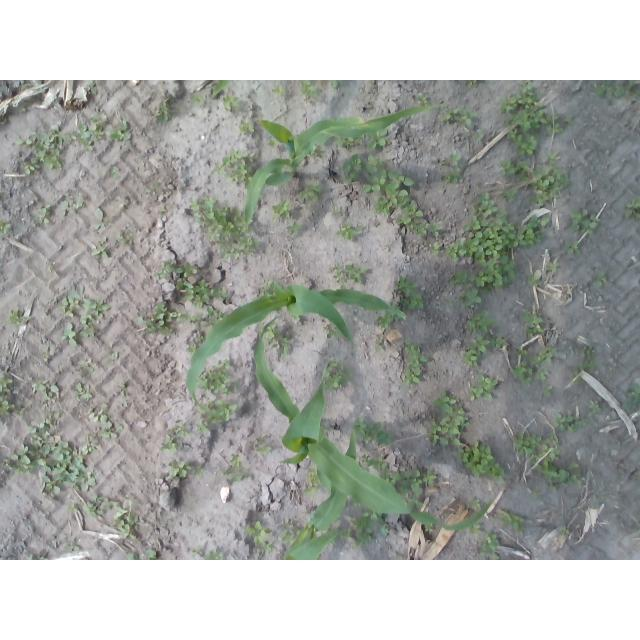Maize: (253, 315, 491, 530), (188, 282, 408, 412), (243, 104, 441, 229), (278, 520, 351, 560)
Weeds: (3, 411, 95, 493), (445, 192, 518, 260), (188, 196, 261, 261), (500, 81, 549, 157), (428, 391, 471, 448), (455, 440, 506, 484), (31, 125, 75, 172), (378, 468, 424, 509), (528, 165, 570, 208), (342, 153, 386, 194), (373, 170, 413, 215), (212, 151, 256, 190), (175, 278, 229, 309), (530, 444, 570, 484), (395, 203, 442, 237), (195, 358, 239, 394), (470, 260, 516, 293), (195, 399, 238, 434), (351, 509, 390, 547), (403, 337, 429, 387), (137, 302, 176, 334), (352, 417, 393, 447), (393, 274, 425, 310), (320, 361, 355, 392), (75, 117, 105, 152), (111, 501, 138, 539), (260, 322, 291, 355), (518, 214, 549, 246), (331, 262, 366, 290), (592, 80, 640, 100), (246, 522, 275, 555), (81, 299, 112, 329), (462, 337, 491, 367), (467, 374, 498, 402), (220, 453, 247, 484), (568, 207, 600, 233), (553, 412, 592, 433), (499, 158, 531, 183), (511, 431, 541, 456), (0, 371, 16, 417), (438, 106, 474, 126), (81, 493, 111, 517), (465, 311, 496, 334), (521, 307, 544, 338), (477, 529, 500, 560), (378, 300, 403, 328), (156, 260, 197, 277), (510, 361, 535, 388), (545, 114, 577, 135), (441, 153, 463, 183), (278, 521, 302, 548), (31, 377, 59, 400), (500, 512, 524, 537), (570, 361, 595, 385), (58, 291, 80, 318), (175, 311, 209, 328), (303, 468, 322, 497), (97, 420, 123, 441), (157, 433, 184, 453), (366, 127, 390, 149), (155, 99, 178, 121), (299, 80, 322, 102), (359, 453, 387, 471), (248, 434, 272, 455), (168, 460, 193, 480), (336, 221, 363, 239), (109, 122, 132, 143), (206, 306, 230, 326), (624, 383, 640, 413), (298, 183, 323, 202), (531, 347, 555, 366), (461, 289, 484, 308), (61, 322, 79, 346), (336, 133, 365, 147), (272, 199, 291, 220), (72, 383, 93, 401), (322, 321, 343, 339), (623, 197, 640, 219), (222, 93, 242, 111), (187, 335, 206, 353), (87, 406, 107, 423), (171, 420, 190, 437), (60, 199, 83, 213), (91, 208, 105, 231), (448, 271, 469, 286), (594, 270, 610, 289), (37, 204, 52, 224), (90, 245, 110, 260), (305, 143, 326, 157), (259, 280, 277, 296), (21, 160, 39, 176), (237, 118, 255, 134), (423, 468, 438, 487), (499, 188, 517, 203), (286, 221, 303, 236), (117, 232, 136, 245), (526, 273, 542, 288), (490, 337, 510, 349), (202, 548, 222, 560), (79, 358, 94, 374), (145, 548, 164, 560), (146, 180, 159, 196), (14, 137, 32, 148), (565, 239, 579, 253), (9, 310, 22, 325), (189, 93, 204, 106), (567, 474, 582, 487), (580, 344, 595, 357), (541, 385, 555, 398), (109, 165, 121, 180), (588, 400, 600, 414), (87, 81, 98, 96), (533, 369, 548, 380), (64, 543, 80, 553), (194, 464, 206, 477), (546, 261, 561, 271), (0, 221, 10, 236), (469, 522, 481, 534), (43, 346, 52, 362), (416, 95, 429, 106), (544, 433, 557, 444), (429, 241, 439, 255), (125, 550, 139, 560), (375, 339, 385, 353), (319, 423, 333, 433), (472, 130, 484, 141), (424, 521, 435, 533), (547, 152, 560, 162), (471, 498, 481, 511), (273, 84, 283, 96), (559, 524, 569, 536), (80, 331, 96, 338), (339, 529, 350, 539), (65, 502, 77, 511), (350, 498, 363, 506), (517, 348, 528, 357), (269, 138, 280, 147), (332, 80, 344, 88), (465, 81, 477, 88), (531, 488, 541, 496), (568, 461, 578, 469), (21, 83, 34, 89), (111, 353, 121, 360), (332, 206, 340, 214), (549, 484, 557, 492), (118, 379, 126, 387), (193, 547, 201, 554), (157, 207, 165, 214), (294, 315, 302, 321)
